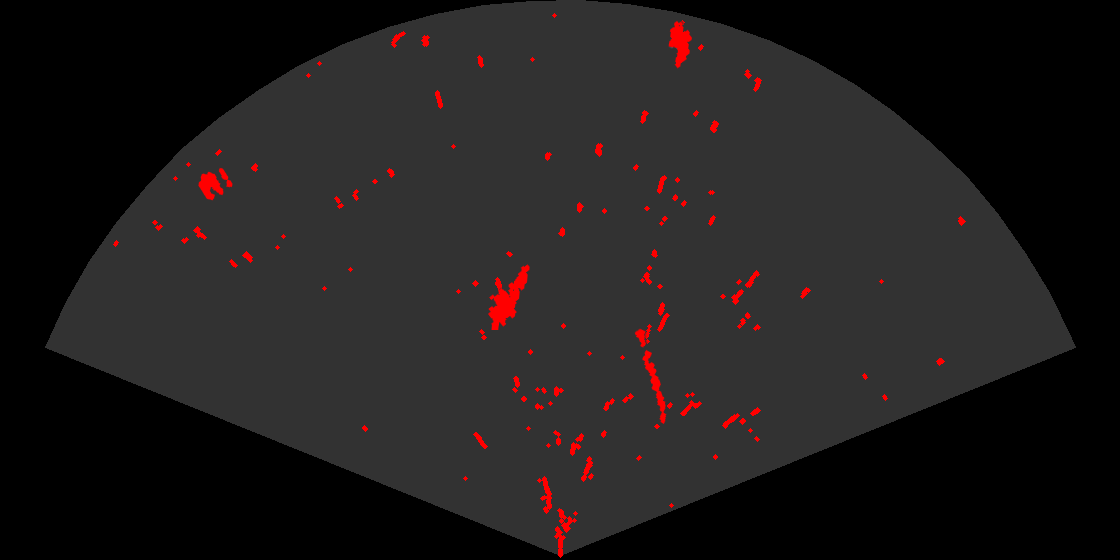AUV: (667, 19, 694, 70)
ball: (197, 166, 234, 202)
chain: (633, 327, 668, 426)
frogman: (487, 263, 531, 330)
